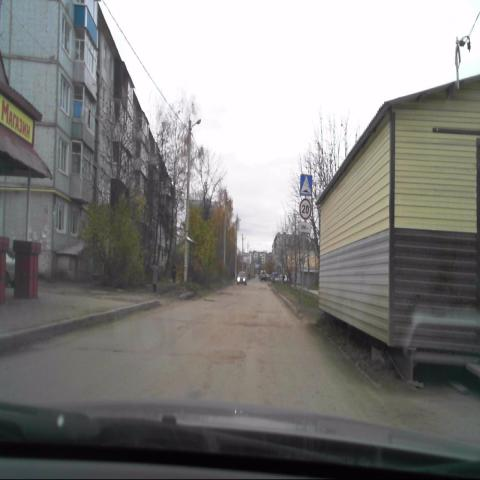3_24: (299, 198, 312, 220)
